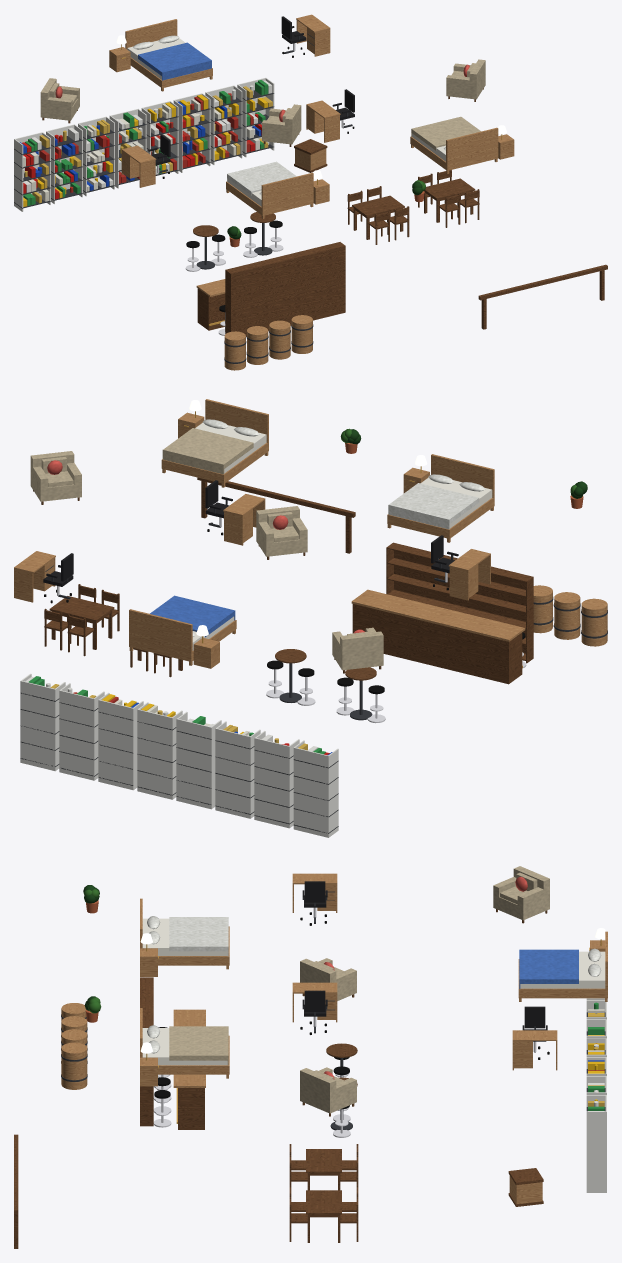
The model's file is i_western_saloon.gltf.
3 views of the same model, one above another, from view 1: azimuth 30°, elevation 25°; view 2: azimuth 150°, elevation 25°; view 3: azimuth 270°, elevation 25° (orthographic). The views are drawn at different scales.
Visible parts, largest first — view 1: I_western_saloon; view 2: I_western_saloon; view 3: I_western_saloon.
Boxes of the visible parts, bbox=[...] form: I_western_saloon: bbox=[14, 14, 607, 370]; I_western_saloon: bbox=[14, 399, 607, 837]; I_western_saloon: bbox=[14, 866, 607, 1248].
Bounding box in the file's own units: 11.49 × 4.45 × 13.28.
Materials: 26 (7 with a texture image).
